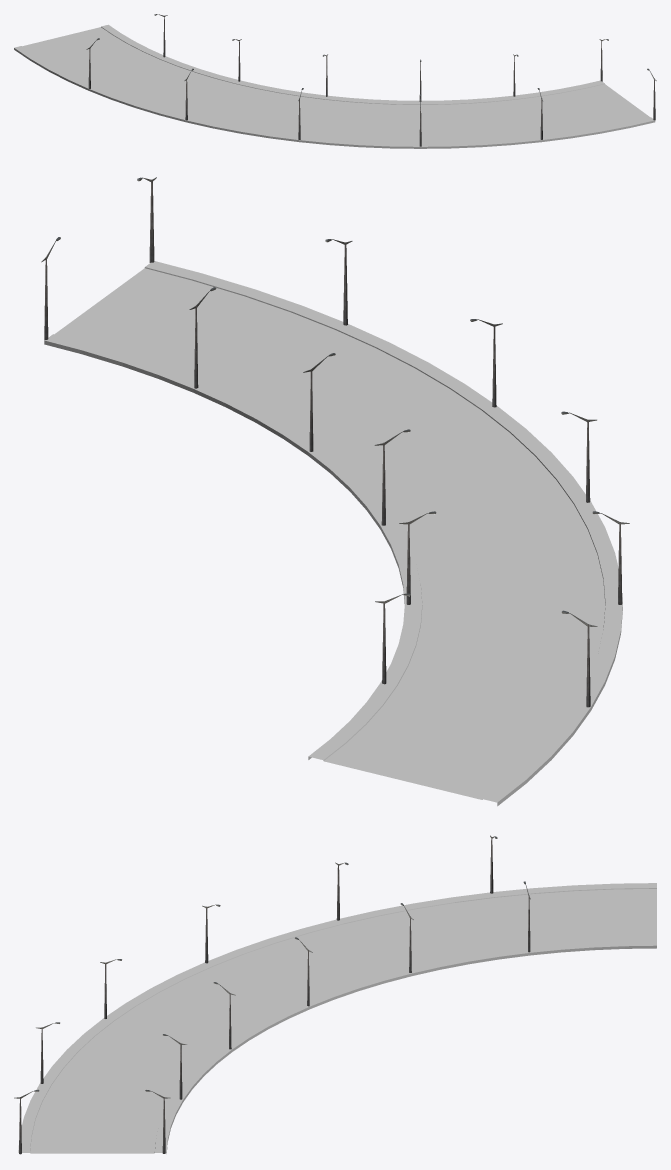
The model's file is Big_Road_90.FBX.
3 renders of one model, top to bottom at view 1: azimuth 30°, elevation 25°; view 2: azimuth 150°, elevation 25°; view 3: azimuth 270°, elevation 25°, orthographic. The views are drawn at different scales.
Parts seen in each view (by area): view 1: Big_Road_90, city_light017; view 2: Big_Road_90, city_light017; view 3: Big_Road_90, city_light017.
Part boxes in pixels (x1,y1,x2,y2): Big_Road_90: (14,24,655,148); city_light017: (86,14,656,146); Big_Road_90: (44,261,622,806); city_light017: (41,177,629,707); Big_Road_90: (18,883,656,1153); city_light017: (14,835,530,1154).
Size of the model in its own units: 97.79 by 98.22 by 11.04.
